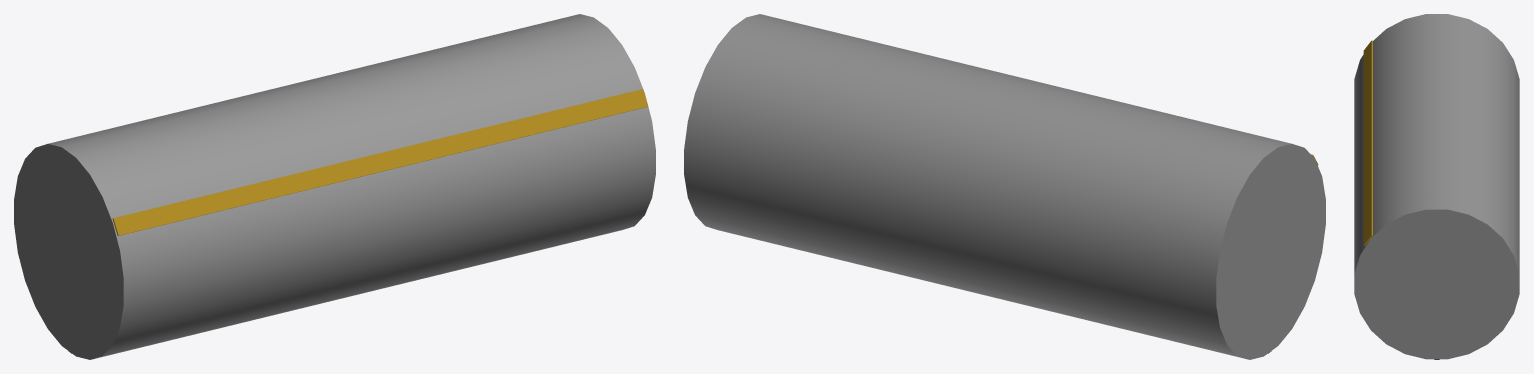
Rendered from Pipe_Straight_1m.fbx.
3 renders of one model, left to right at view 1: azimuth 30°, elevation 25°; view 2: azimuth 150°, elevation 25°; view 3: azimuth 270°, elevation 25°, orthographic. The views are drawn at different scales.
Parts seen in each view (by area): view 1: Pipe_Straight_1m_LOD0; view 2: Pipe_Straight_1m_LOD0; view 3: Pipe_Straight_1m_LOD0.
Boxes of the visible parts, x1,y1,x2,y2 form: Pipe_Straight_1m_LOD0: [14, 14, 655, 359]; Pipe_Straight_1m_LOD0: [684, 14, 1325, 359]; Pipe_Straight_1m_LOD0: [1354, 14, 1519, 359].
Size of what is drawn, in the model's own units: 1 by 0.3595 by 0.3569.
